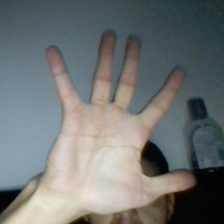left: (35, 18, 197, 212)
